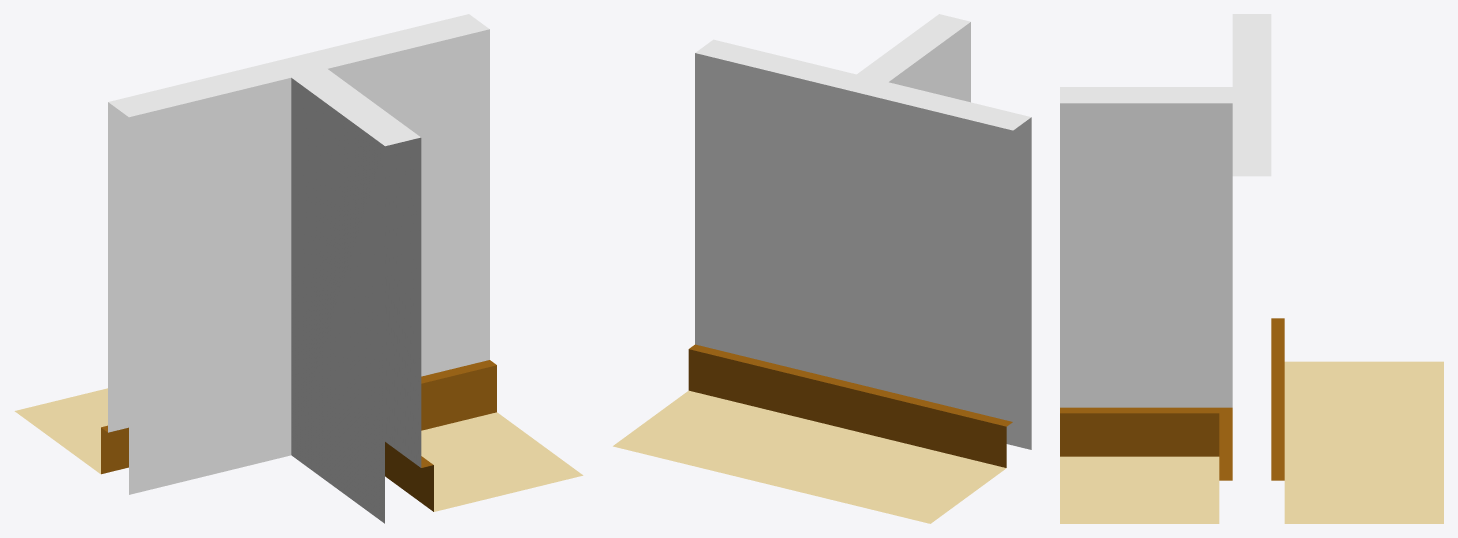
Rendered from I_Wall_T_Shape_Elevator_L.fbx.
3 renders of one model, left to right at view 1: azimuth 30°, elevation 25°; view 2: azimuth 150°, elevation 25°; view 3: azimuth 270°, elevation 25°, orthographic. The views are drawn at different scales.
Parts seen in each view (by area): view 1: I_Wall_T_Shape_Elevator_L; view 2: I_Wall_T_Shape_Elevator_L; view 3: I_Wall_T_Shape_Elevator_L.
Boxes of the visible parts, bbox=[...] form: I_Wall_T_Shape_Elevator_L: bbox=[14, 14, 583, 523]; I_Wall_T_Shape_Elevator_L: bbox=[613, 14, 1031, 523]; I_Wall_T_Shape_Elevator_L: bbox=[1060, 14, 1443, 523].
Size of the model in its own units: 200 by 200 by 200.
Materials: 1 (1 with a texture image).
